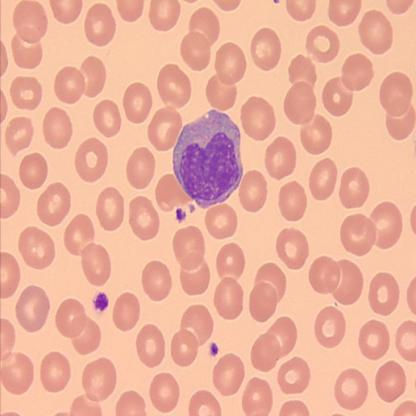Monocyte: (172, 106, 244, 209)
